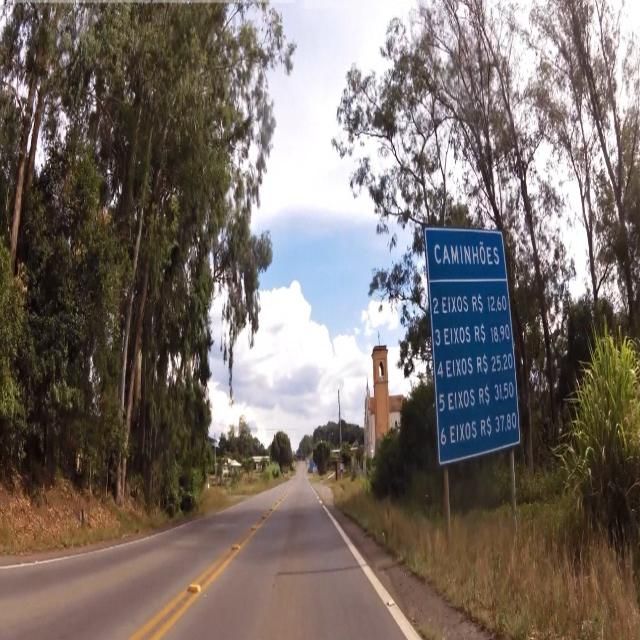LOC-6: (427, 223, 526, 461)
